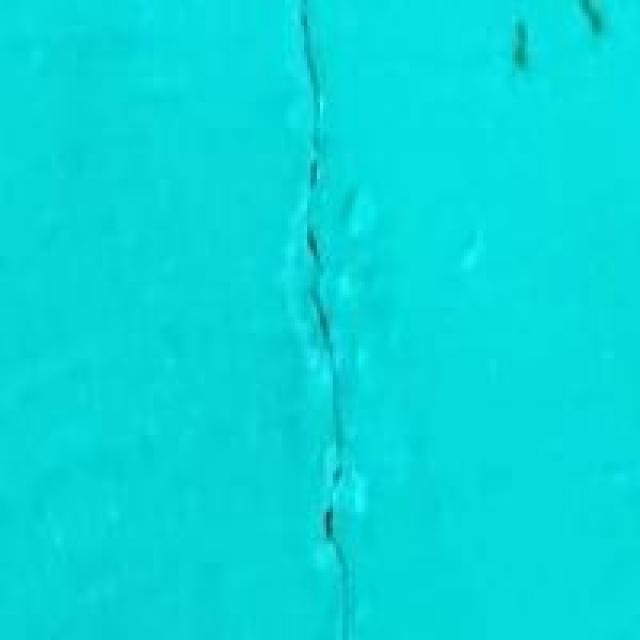crack: (237, 0, 384, 592)
